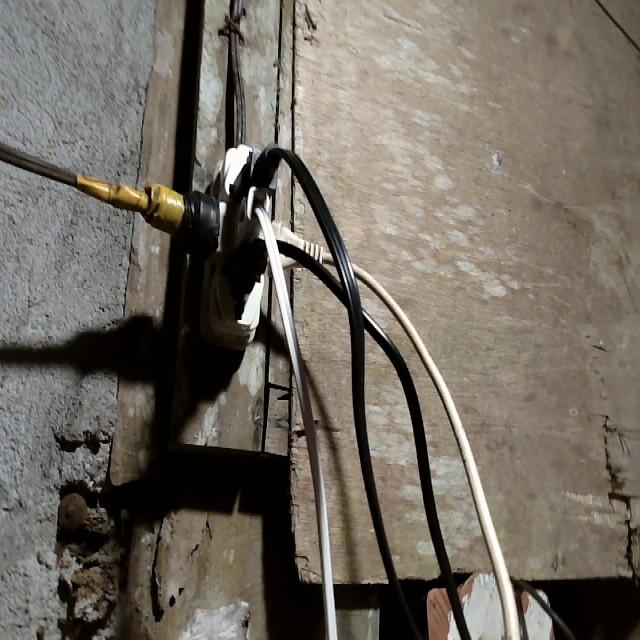-: (159, 136, 310, 348)
